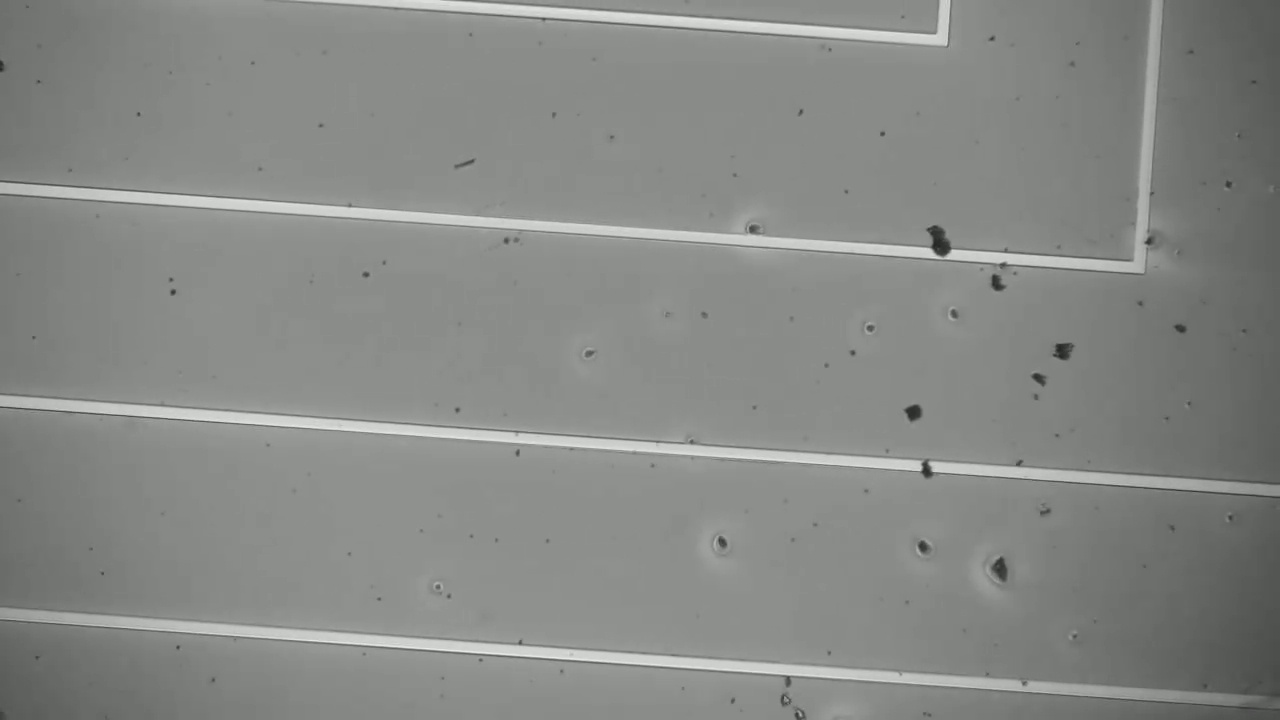stains_enbedded: (916, 221, 957, 274), (909, 451, 942, 486)
